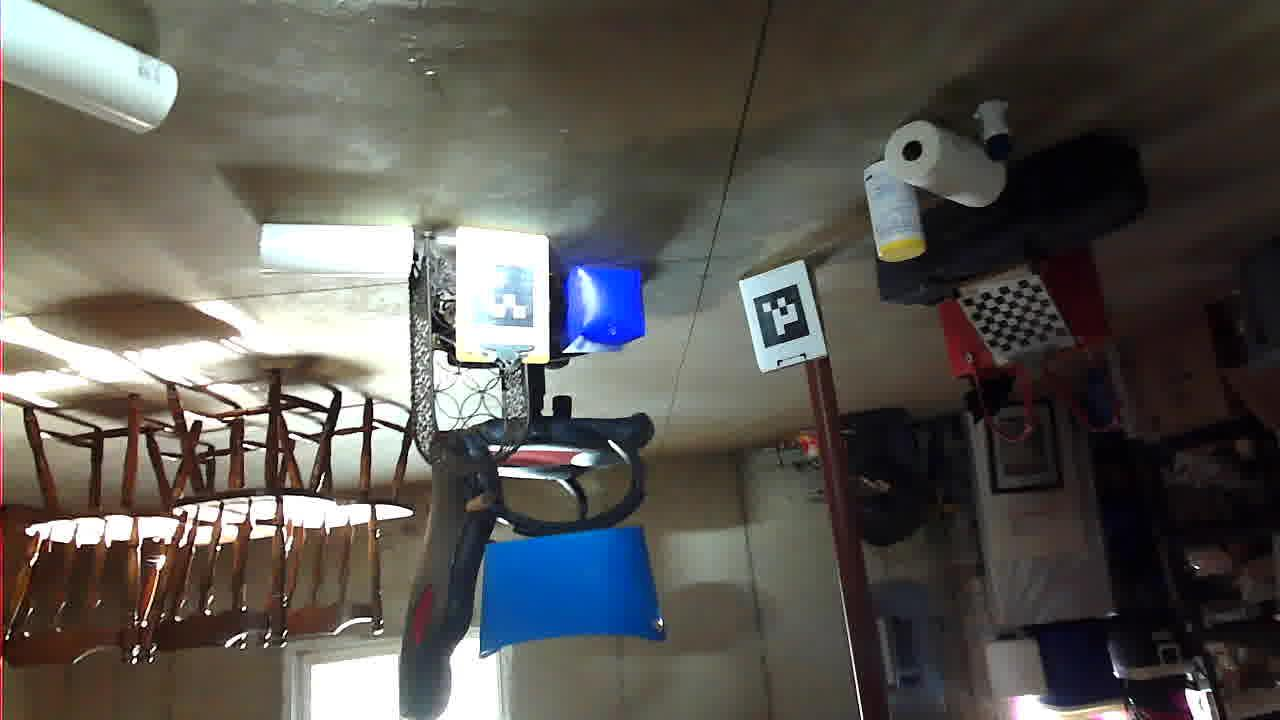coral: (1103, 586, 1276, 718), (864, 444, 1021, 497)
